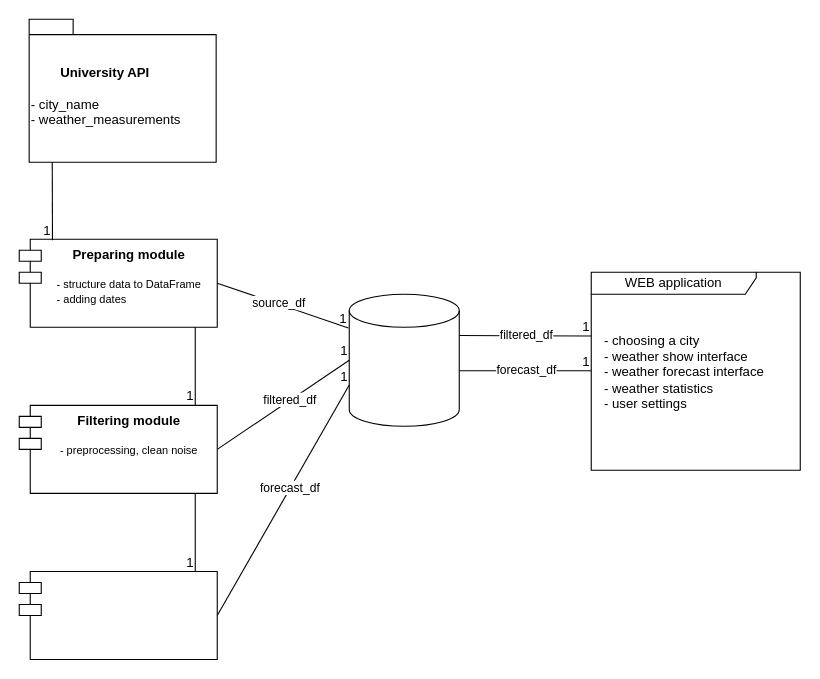
The diagram is 820 pixels wide and 679 high, and some of its shapes have lost their labels. The box of each missing label's shape, as (x1, y1, x2, y2) in pixels:
Forecasting module - XGBoost - Random Forrest: (18, 570, 217, 659)
ORM SQLite: (348, 293, 459, 426)
